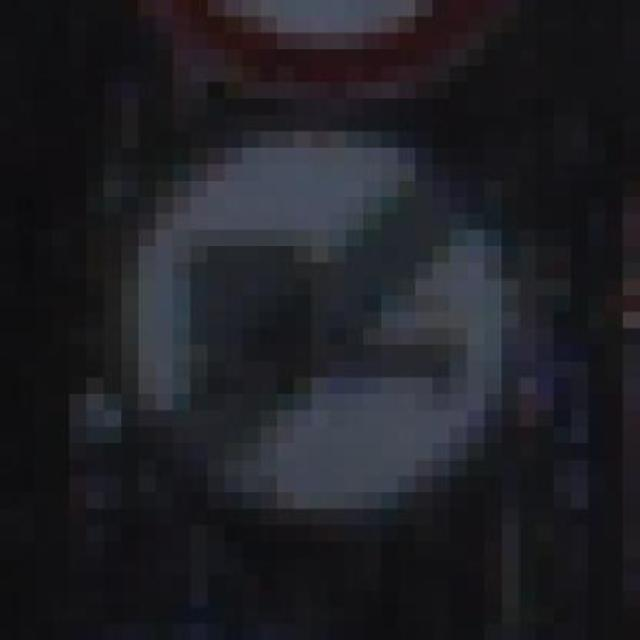Overtaking by trucks is prohibited: (51, 99, 572, 558)
